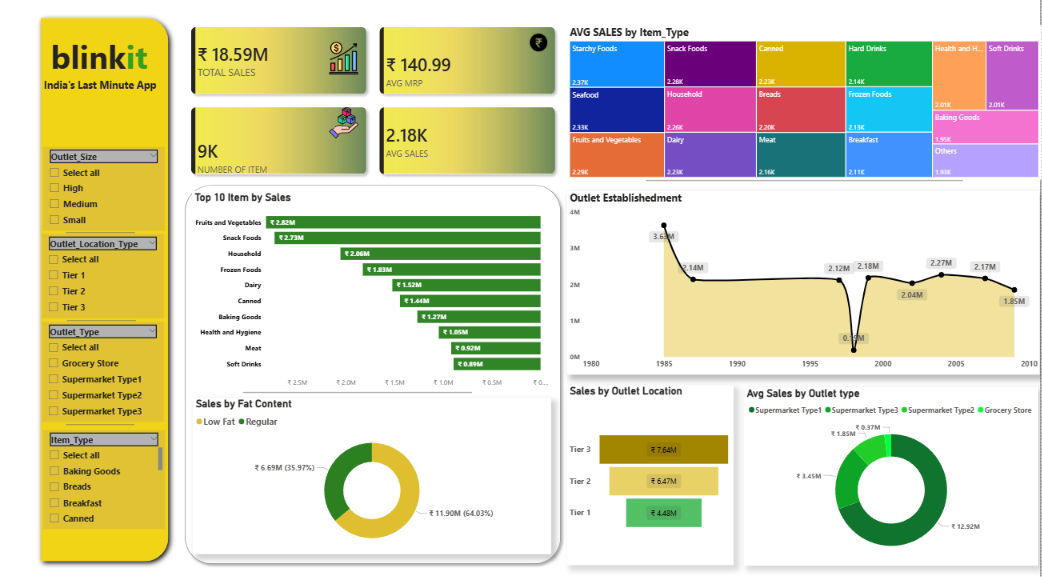

Layout of this report page (visuals, bound fields, positions):
{"tool":"powerbi","page":{"name":"Page 1","canvas":[1920,1080],"ordinal":0},"visuals":[{"type":"shape","box":[67.9,25.7,262.3,1025.3],"z":0},{"type":"textbox","box":[83.3,145,223.3,36.7],"z":1000},{"type":"textbox","box":[95,66.7,198.3,91.7],"z":2000},{"type":"cardVisual","fields":{"Data":["Tableau BlinkIT Grocery Project.TOTAL SALES","Tableau BlinkIT Grocery Project.AVG MRP","Tableau BlinkIT Grocery Project.NUMBER OF ITEM","Tableau BlinkIT Grocery Project.AVG SALES"]},"box":[326,26,730,332],"z":3000},{"type":"shape","box":[337.7,337.7,707.5,713.2],"z":4000},{"type":"donutChart","title":"Sales by Fat Content","fields":{"Category":["Tableau BlinkIT Grocery Project.Item_Fat_Content"],"Y":["Sum(Tableau BlinkIT Grocery Project.Item_Outlet_Sales)"]},"box":[361.3,737.4,656.7,286.1],"z":5000},{"type":"barChart","title":"Top 10 Item by Sales","fields":{"Category":["Tableau BlinkIT Grocery Project.Item_Type"],"Y":["Sum(Tableau BlinkIT Grocery Project.Item_Outlet_Sales)"]},"box":[360.4,358.5,658.5,369.8],"z":6000},{"type":"donutChart","title":"Avg Sales by Outlet type","fields":{"Category":["Tableau BlinkIT Grocery Project.Outlet_Type"],"Y":["Sum(Tableau BlinkIT Grocery Project.Item_Outlet_Sales)"]},"box":[1371.2,717.3,540.4,326.9],"z":7000},{"type":"funnel","title":"Sales by Outlet Location","fields":{"Category":["Tableau BlinkIT Grocery Project.Outlet_Location_Type"],"Y":["Sum(Tableau BlinkIT Grocery Project.Item_Outlet_Sales)"]},"box":[1048.1,713.5,305.8,330.8],"z":8000},{"type":"lineChart","title":"Outlet Establishedment","fields":{"Y":["Sum(Tableau BlinkIT Grocery Project.Item_Outlet_Sales)"],"Category":["Tableau BlinkIT Grocery Project.Outlet_Establishment_Year"]},"box":[1046.5,357.6,868.6,336.6],"z":9000},{"type":"treemap","fields":{"Group":["Tableau BlinkIT Grocery Project.Item_Type"],"Values":["Tableau BlinkIT Grocery Project.AVG SALES"]},"box":[1046.5,54.1,872.1,284.3],"z":10000},{"type":"shape","box":[453,718,420,20],"z":11000},{"type":"shape","box":[1192.3,319.2,581.5,38.5],"z":12000},{"type":"slicer","fields":{"Values":["Tableau BlinkIT Grocery Project.Outlet_Type"]},"box":[84.3,598,223.3,183.3],"z":13000},{"type":"slicer","fields":{"Values":["Tableau BlinkIT Grocery Project.Outlet_Location_Type"]},"box":[85,436.7,223.3,154],"z":14000},{"type":"slicer","fields":{"Values":["Tableau BlinkIT Grocery Project.Outlet_Size"]},"box":[86.7,276.7,223.3,153.3],"z":15000},{"type":"shape","box":[130,577.5,126.2,35],"z":16000},{"type":"shape","box":[127.5,416.2,126.2,35],"z":17000},{"type":"shape","box":[127.8,768.5,125.9,35.2],"z":18000},{"type":"slicer","title":"hh","fields":{"Values":["Tableau BlinkIT Grocery Project.Item_Type"]},"box":[87,796.3,224.1,181.5],"z":19000}]}

Visuals, with their boxes in screenshot pixels (x1, y1, x2, y2), scaled from the page's 1920x1080 canvas onto the 1042x577 screenshot:
shape: 37,14,179,562
textbox: 45,77,166,97
textbox: 52,36,159,85
cardVisual - Tableau BlinkIT Grocery Project.TOTAL SALES x Tableau BlinkIT Grocery Project.AVG MRP: 177,14,573,191
shape: 183,180,567,561
"Sales by Fat Content" donutChart: 196,394,552,547
"Top 10 Item by Sales" barChart: 196,192,553,389
"Avg Sales by Outlet type" donutChart: 744,383,1037,558
"Sales by Outlet Location" funnel: 569,381,735,558
"Outlet Establishedment" lineChart: 568,191,1039,371
treemap - Tableau BlinkIT Grocery Project.Item_Type x Tableau BlinkIT Grocery Project.AVG SALES: 568,29,1041,181
shape: 246,384,474,394
shape: 647,171,963,191
slicer - Tableau BlinkIT Grocery Project.Outlet_Type: 46,319,167,417
slicer - Tableau BlinkIT Grocery Project.Outlet_Location_Type: 46,233,167,316
slicer - Tableau BlinkIT Grocery Project.Outlet_Size: 47,148,168,230
shape: 71,309,139,327
shape: 69,222,138,241
shape: 69,411,138,429
"hh" slicer: 47,425,169,522
